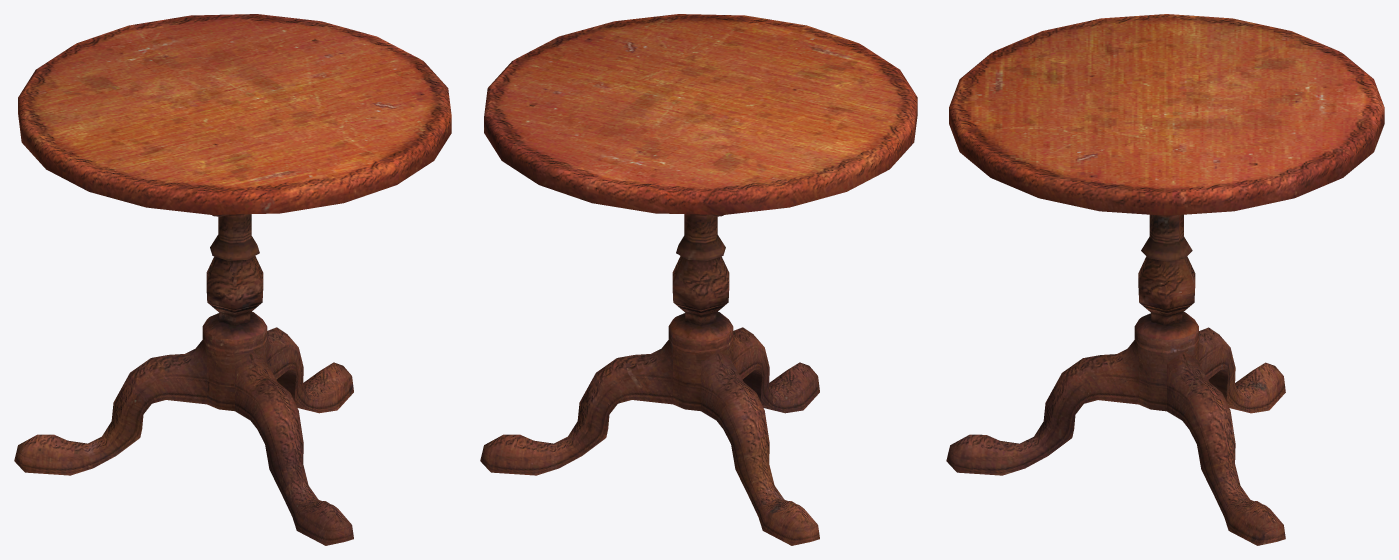
The model's file is table_nice_round.dae.
3 renders of one model, left to right at view 1: azimuth 30°, elevation 25°; view 2: azimuth 150°, elevation 25°; view 3: azimuth 270°, elevation 25°, orthographic.
Visible parts, largest first — view 1: table_nice_round_mesh; view 2: table_nice_round_mesh; view 3: table_nice_round_mesh.
Part boxes in pixels (left/top/right/bottom): table_nice_round_mesh: left=14, top=14, right=451, bottom=545; table_nice_round_mesh: left=480, top=14, right=917, bottom=545; table_nice_round_mesh: left=946, top=14, right=1384, bottom=545.
Size of the model in its own units: 1.2 by 1.1 by 1.21.
